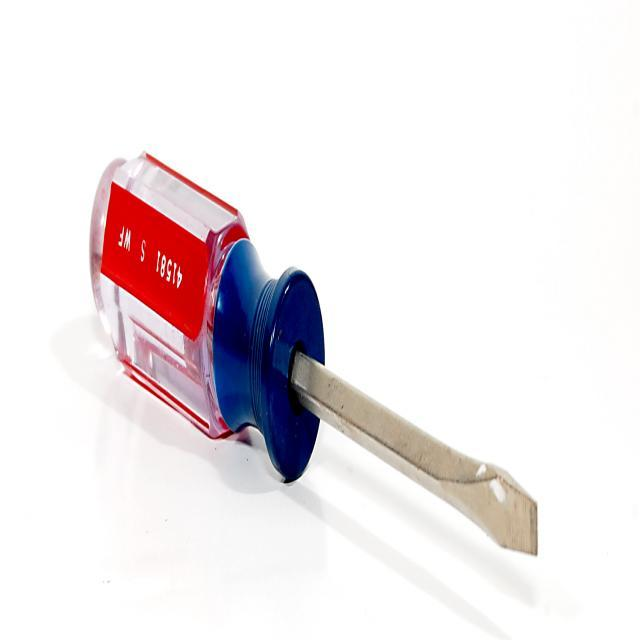screwdriver: (86, 147, 544, 578)
